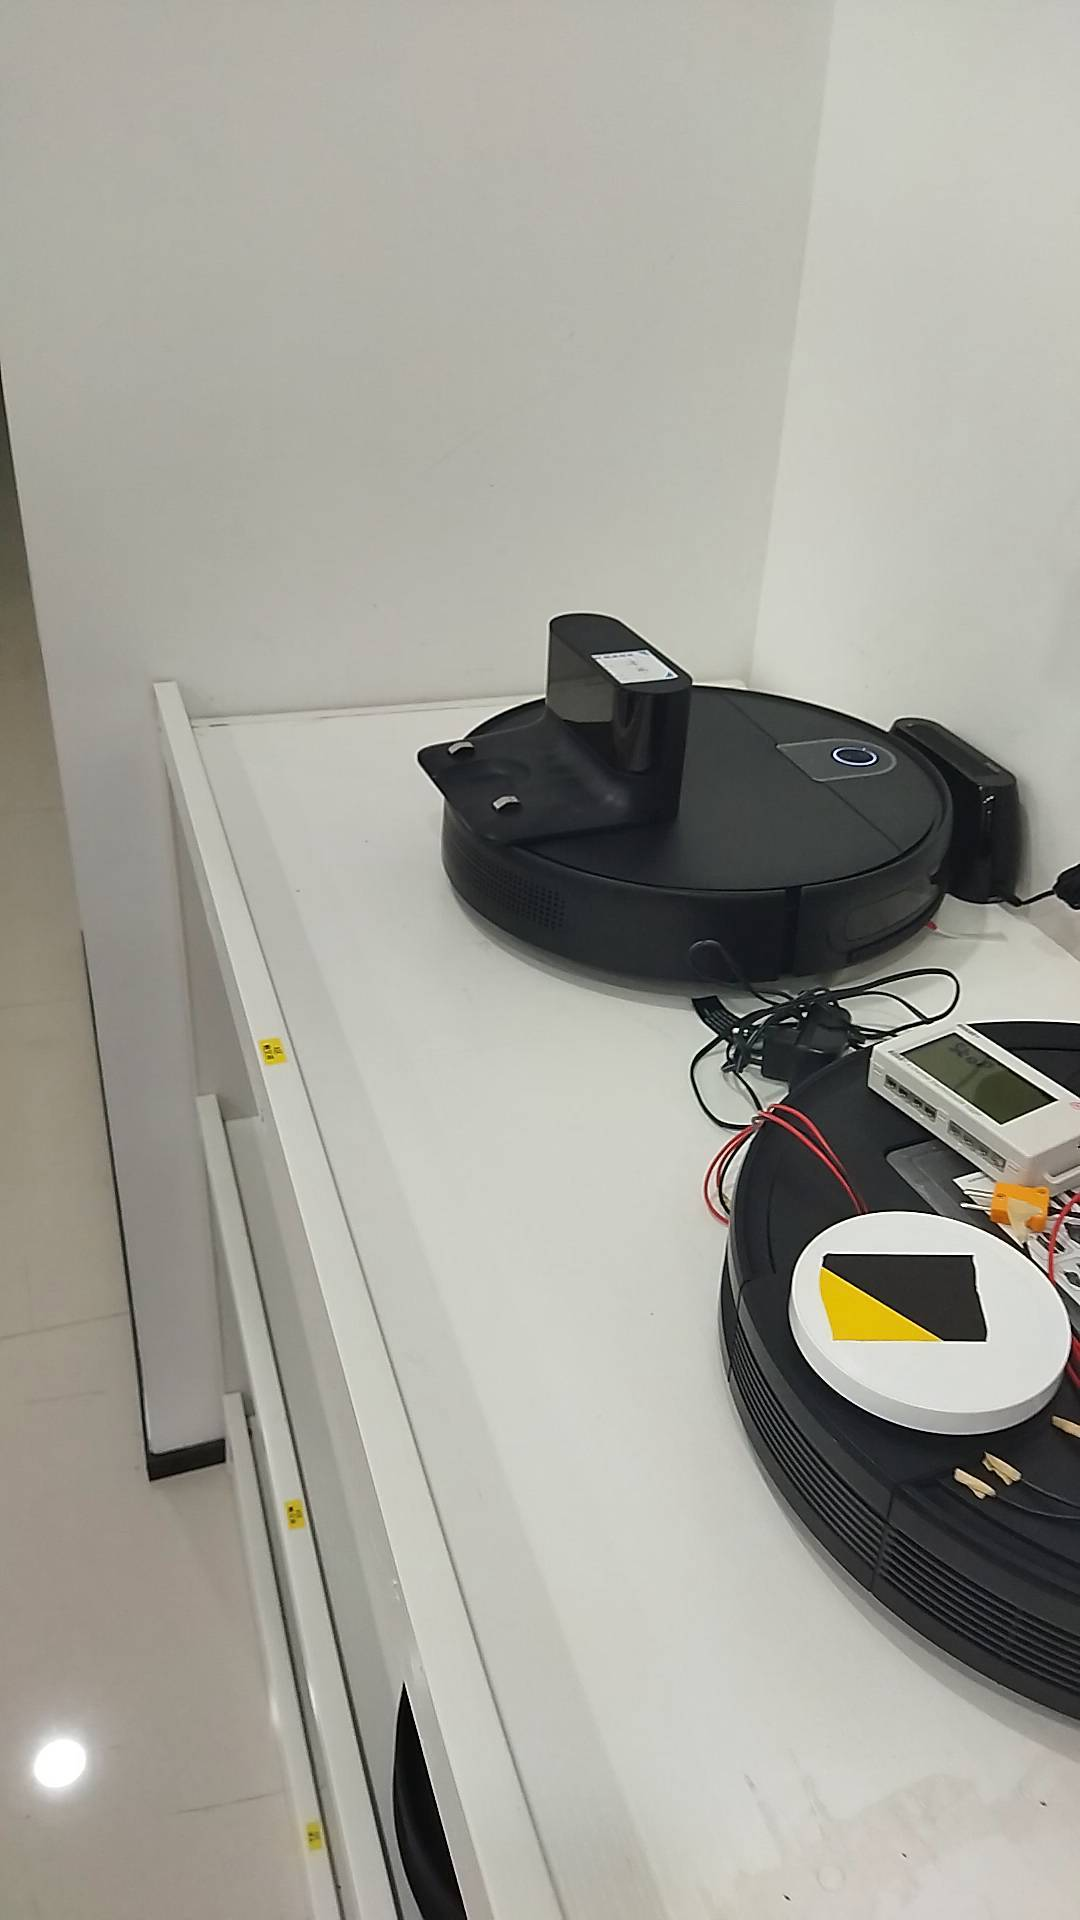recharge seat: (415, 611, 690, 844), (885, 713, 1021, 911)
